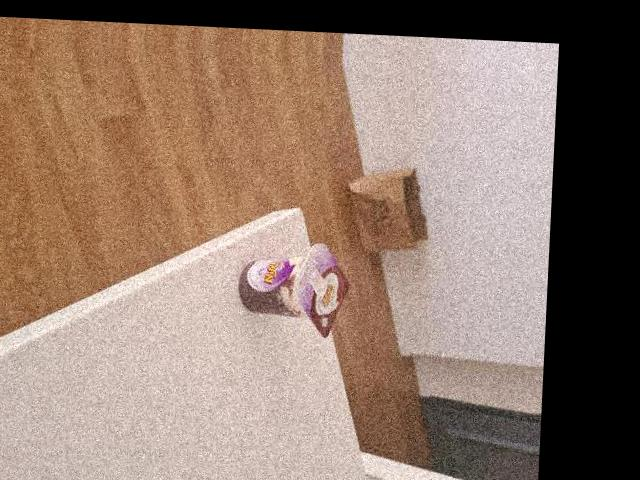milky: (239, 244, 350, 333)
